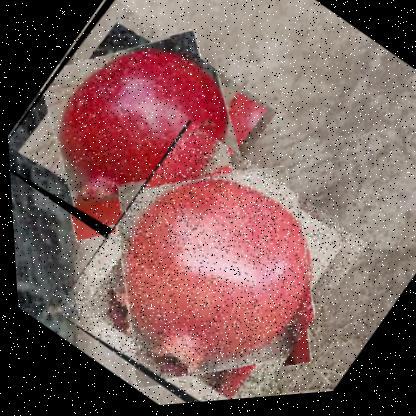pomegranate: (41, 110, 372, 413), (0, 0, 285, 290)
